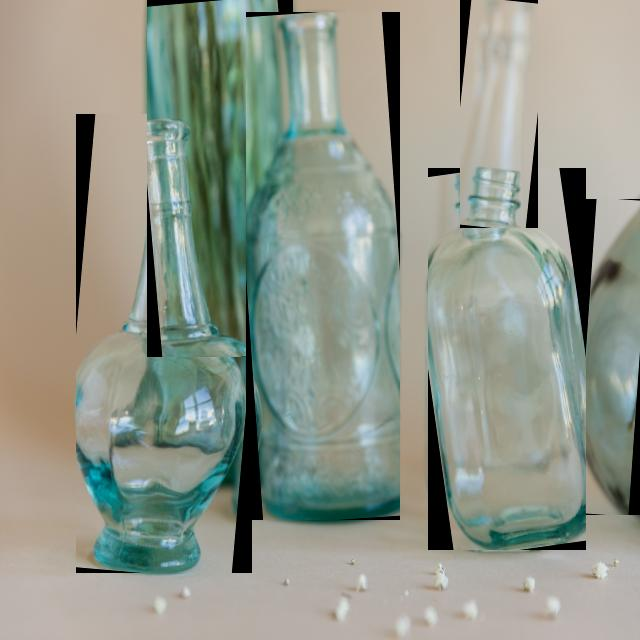Bottle: (75, 115, 250, 573), (245, 13, 398, 520), (427, 169, 584, 550), (146, 0, 292, 357), (586, 200, 639, 515), (459, 0, 527, 228)
